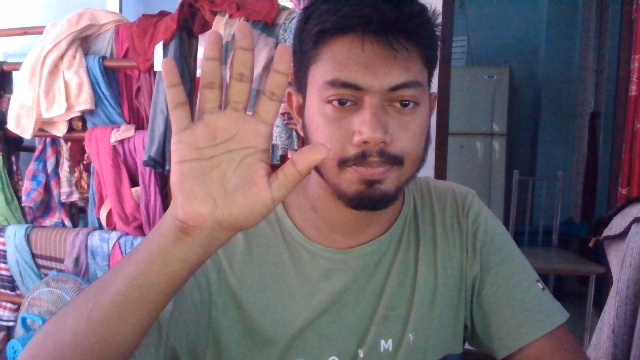hello: (152, 19, 332, 234)
